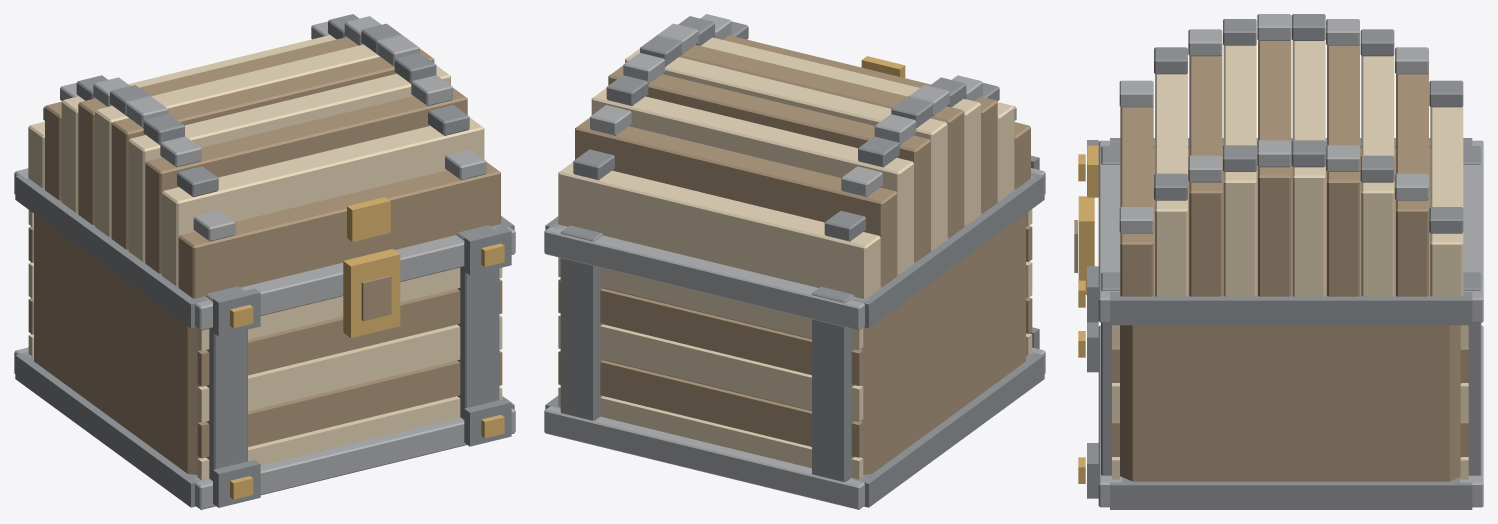
Rendered from chest.gltf.
The picture shows the model from 3 angles, left to right: view 1: azimuth 30°, elevation 25°; view 2: azimuth 150°, elevation 25°; view 3: azimuth 270°, elevation 25°; orthographic projection. The views are drawn at different scales.
Bounding box in the file's own units: 0.85 × 0.8415 × 0.904.
